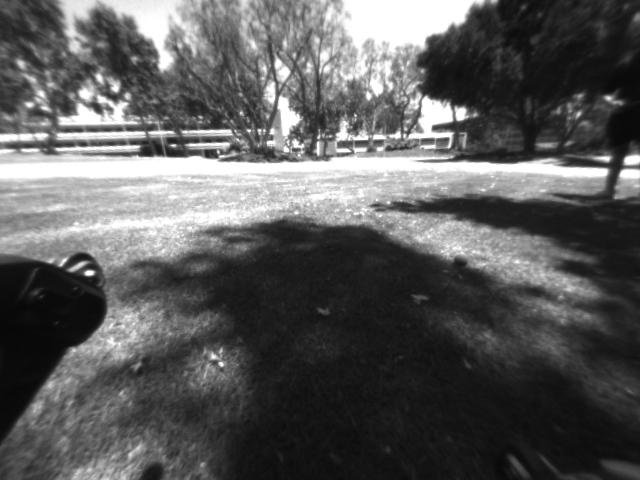dogtoy: (450, 247, 473, 270)
